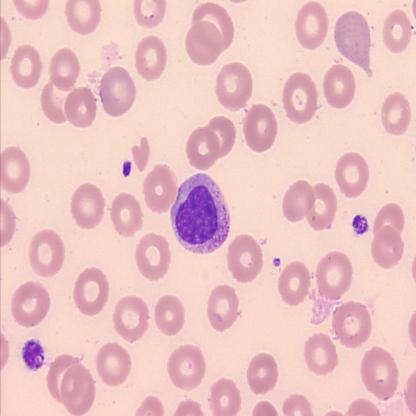Metamyelocyte: (169, 170, 231, 256)
